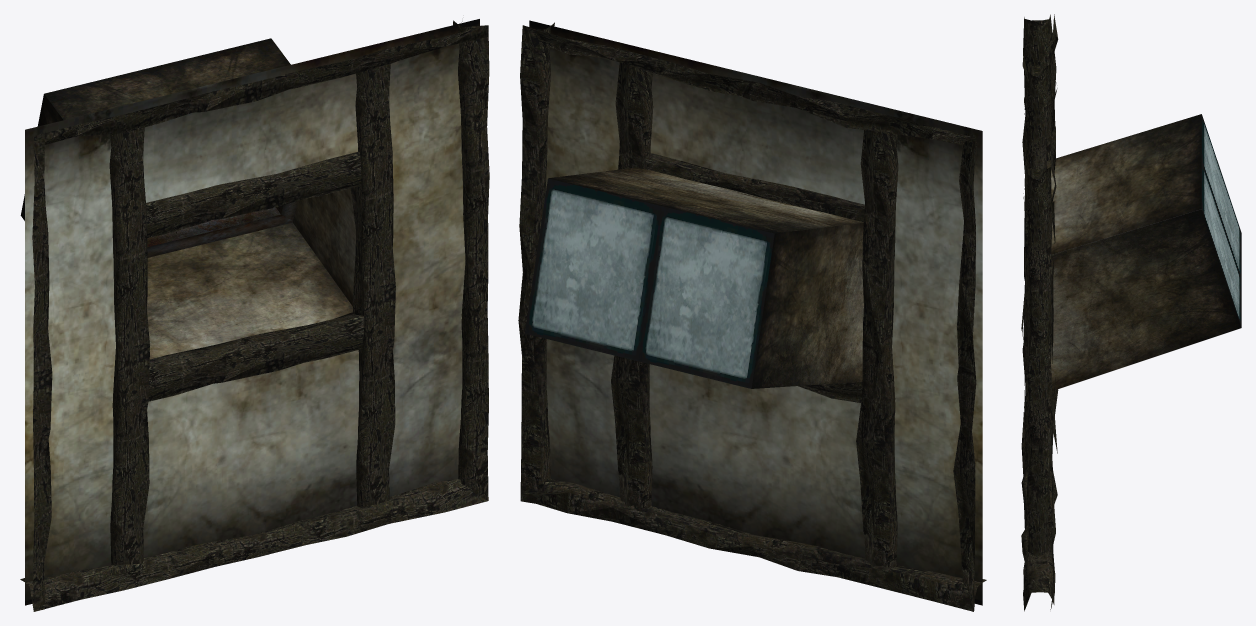
The model's file is window02_extension_blue.dae.
3 renders of one model, left to right at view 1: azimuth 30°, elevation 25°; view 2: azimuth 150°, elevation 25°; view 3: azimuth 270°, elevation 25°, orthographic. The views are drawn at different scales.
Parts seen in each view (by area): view 1: polySurface22, polySurface31, polySurface25, pCube1; view 2: polySurface22, polySurface31, polySurface24, polySurface25; view 3: polySurface25, polySurface31, polySurface24.
Boxes of the visible parts, <box> form: polySurface22: <box>25,19,479,605</box>; polySurface31: <box>20,20,489,611</box>; polySurface25: <box>20,38,355,359</box>; pCube1: <box>147,201,297,257</box>; polySurface22: <box>529,20,982,605</box>; polySurface31: <box>518,22,986,611</box>; polySurface24: <box>525,178,774,388</box>; polySurface25: <box>549,167,863,388</box>; polySurface25: <box>1047,114,1241,390</box>; polySurface31: <box>1021,14,1058,611</box>; polySurface24: <box>1201,114,1241,327</box>.
Size of the model in its own units: 4 by 4 by 1.96.
